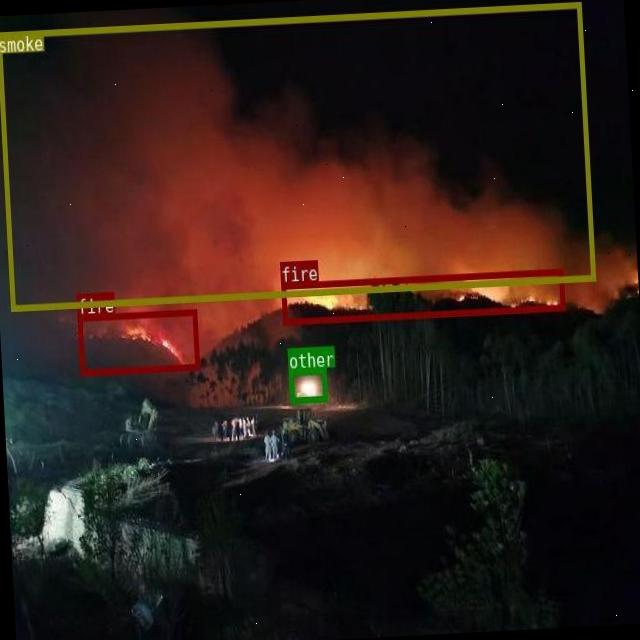fire: (281, 267, 564, 324), (78, 308, 200, 376)
smoke: (0, 1, 594, 310)
